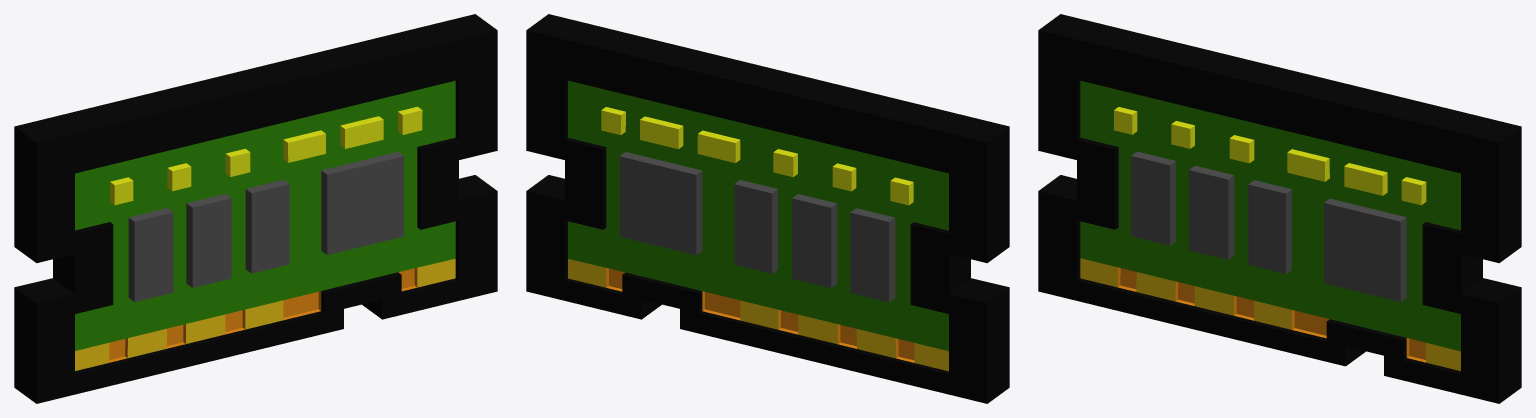
The model's file is ram.fbx.
The picture shows the model from 3 angles, left to right: view 1: azimuth 30°, elevation 25°; view 2: azimuth 150°, elevation 25°; view 3: azimuth 330°, elevation 25°; orthographic projection.
Visible parts, largest first — view 1: Cube.031; view 2: Cube.031; view 3: Cube.031.
Boxes of the visible parts, box(x1,y1,x2,y2) form: Cube.031: box(14, 14, 497, 403); Cube.031: box(526, 14, 1009, 403); Cube.031: box(1038, 14, 1521, 403).
Size of the model in its own units: 2400 by 1300 by 249.
